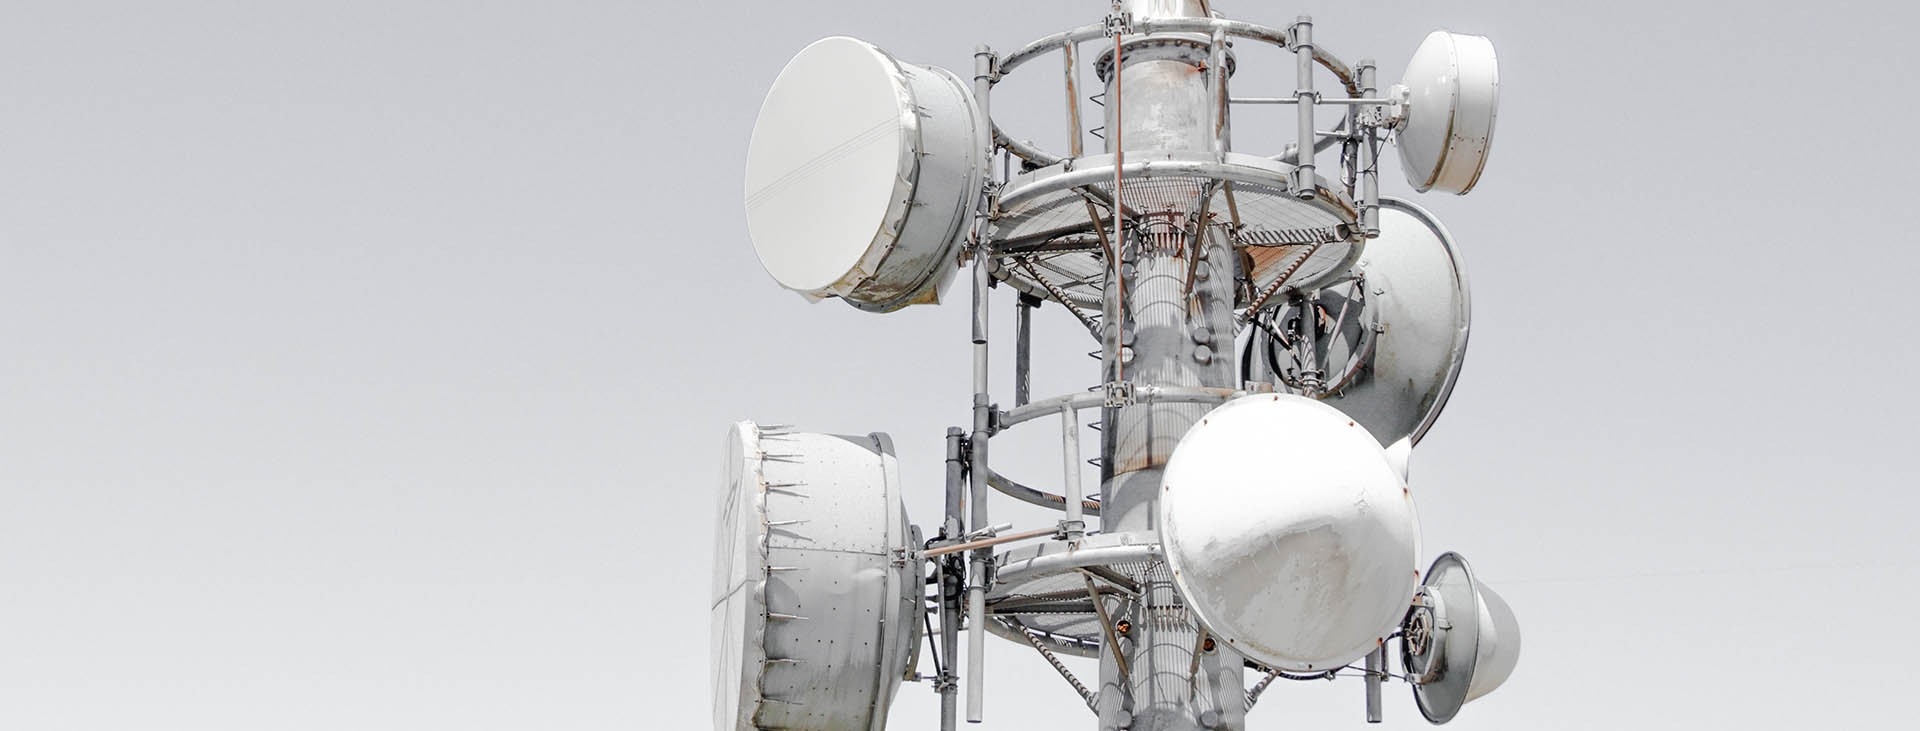ba: (693, 376, 920, 731), (731, 22, 969, 340), (1273, 181, 1479, 418), (1390, 40, 1502, 217)
